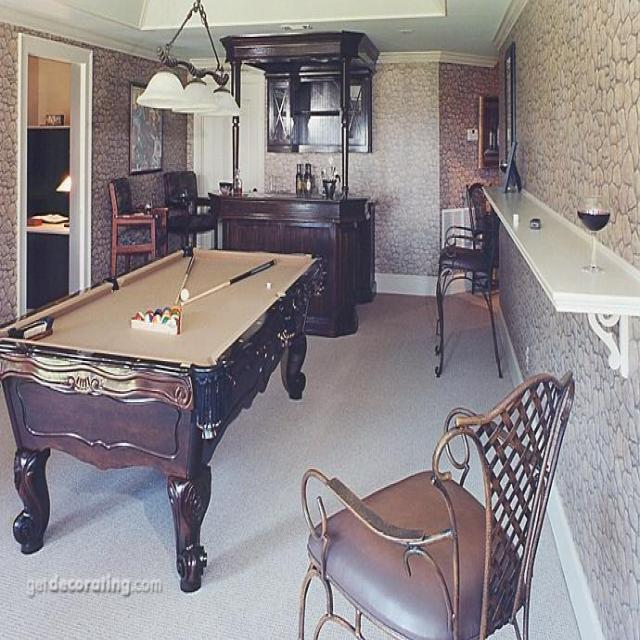chair: (297, 368, 575, 638)
glass: (576, 196, 610, 274)
pots: (322, 179, 336, 198)
rugs: (0, 288, 578, 638)
table: (0, 244, 325, 592)
window: (16, 30, 93, 319)
windows: (128, 81, 162, 175)
